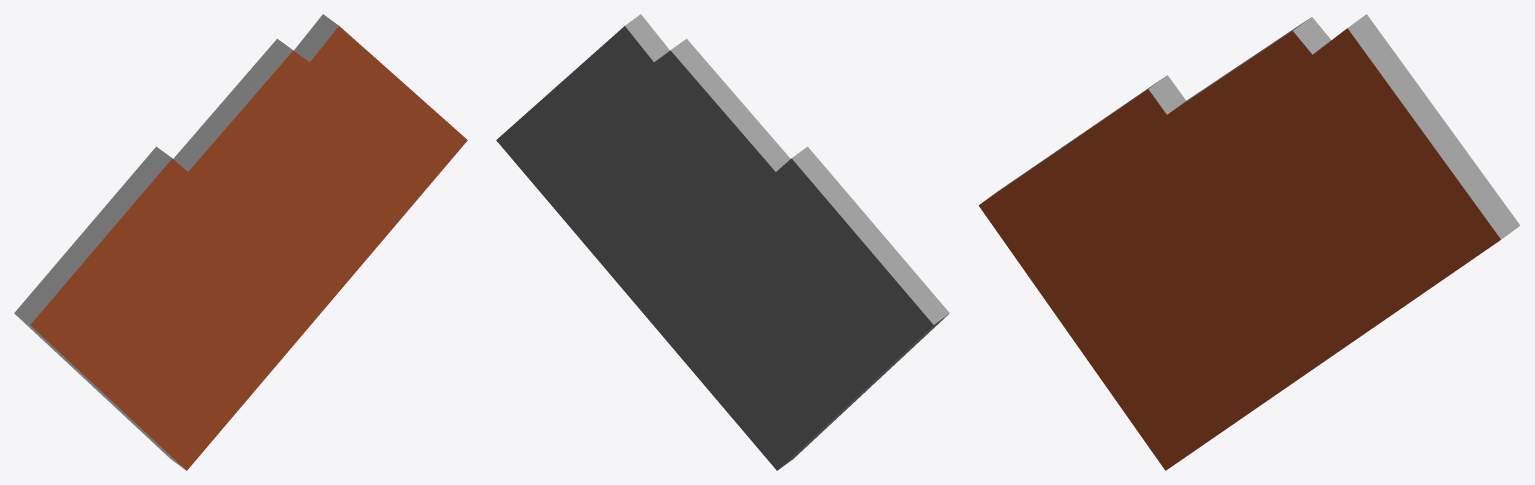
File: construction_0132_assumed_A_Grande_construcao_h6m.obj
3 renders of one model, left to right at view 1: azimuth 30°, elevation 25°; view 2: azimuth 150°, elevation 25°; view 3: azimuth 330°, elevation 25°, orthographic. The views are drawn at different scales.
Parts seen in each view (by area): view 1: construction_0132_assumed_A_Grande_construcao; view 2: construction_0132_assumed_A_Grande_construcao; view 3: construction_0132_assumed_A_Grande_construcao.
Part boxes in pixels (left/top/right/bottom): construction_0132_assumed_A_Grande_construcao: left=14, top=14, right=467, bottom=470; construction_0132_assumed_A_Grande_construcao: left=496, top=14, right=949, bottom=470; construction_0132_assumed_A_Grande_construcao: left=978, top=14, right=1520, bottom=470.
Bounding box in the file's own units: 93.91 × 83.65 × 6.
